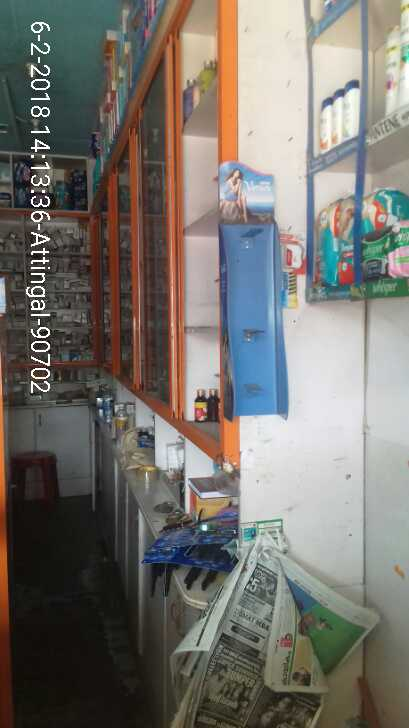beauty: (375, 7, 409, 107), (320, 89, 343, 156), (344, 74, 361, 139)
pharmacy: (315, 199, 349, 291), (357, 228, 409, 280)
